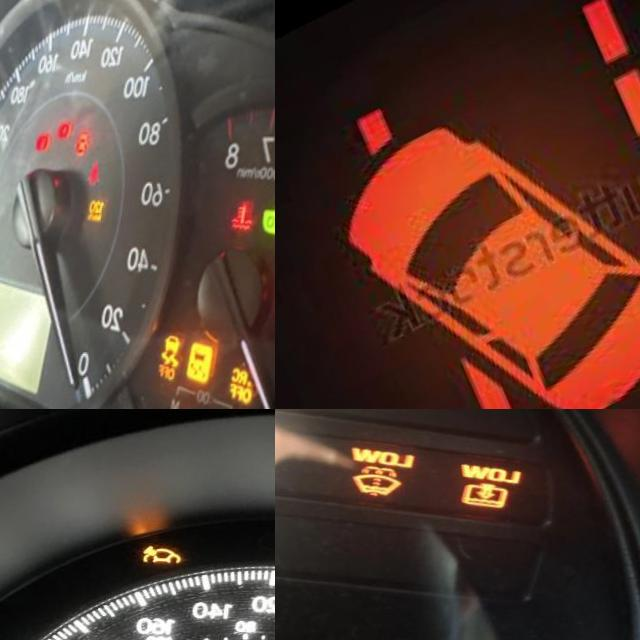High Engine Coolant Temperature: (235, 198, 265, 231)
Washer Fluid: (362, 461, 413, 496)
